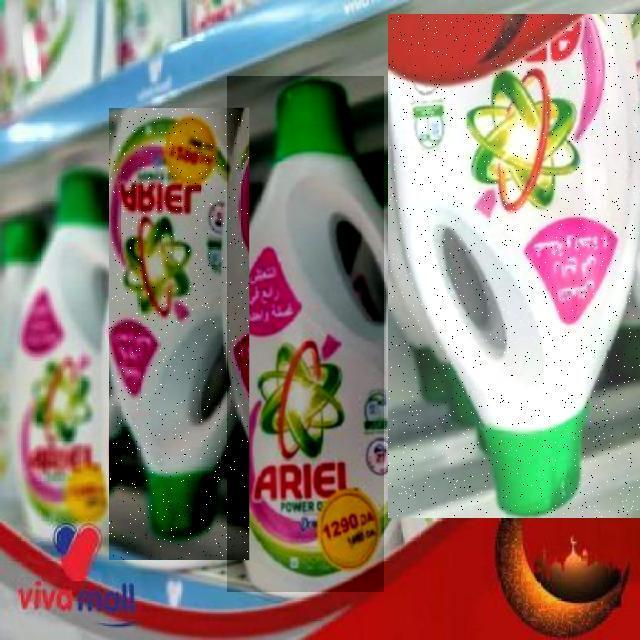Detergent: (388, 14, 640, 518), (227, 76, 384, 592), (109, 108, 249, 560)
